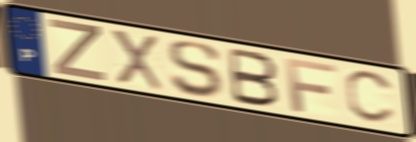B: (227, 46, 281, 109)
C: (343, 70, 397, 127)
F: (283, 56, 339, 115)
S: (166, 40, 223, 99)
X: (107, 26, 165, 93)
Z: (47, 16, 109, 84)
